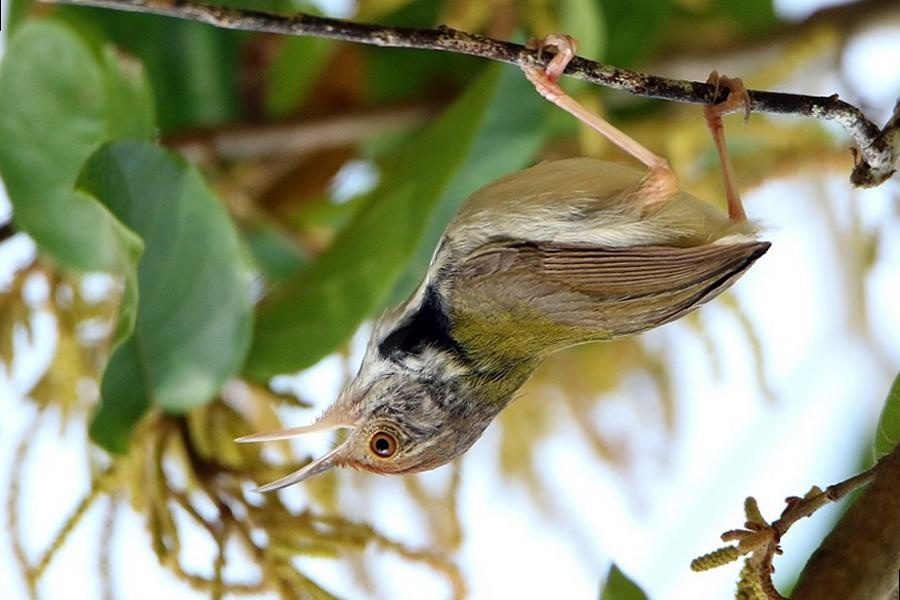tailorbird: (253, 101, 810, 517)
